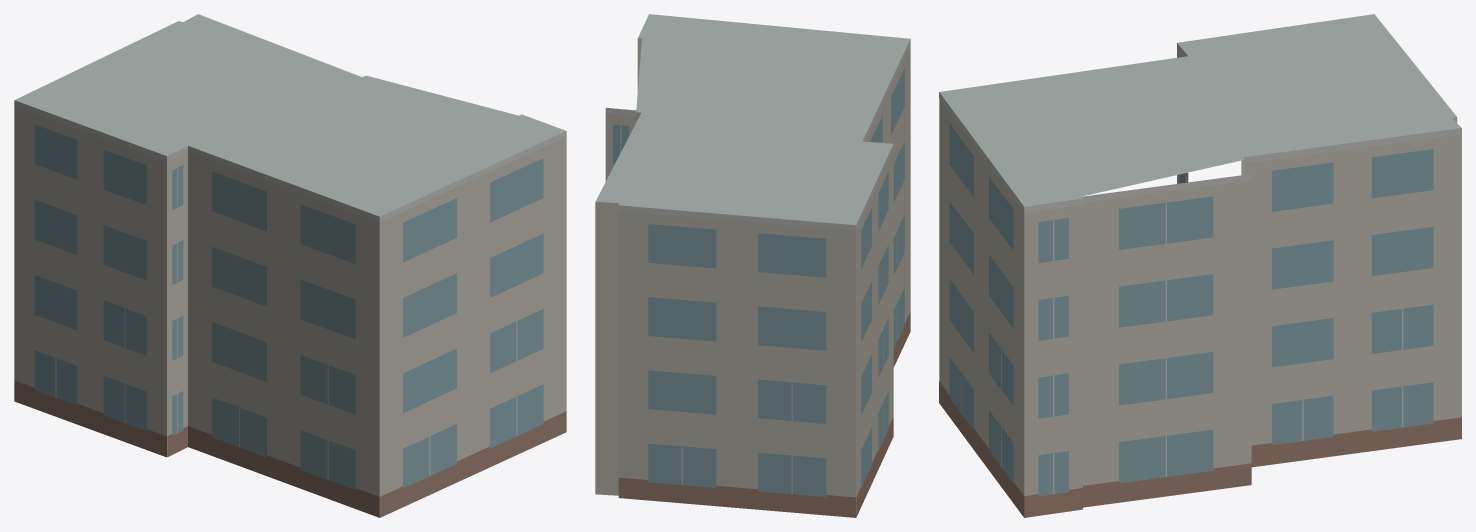
File: survey-upis-32814537.glb
3 views of the same model, side by side, from view 1: azimuth 30°, elevation 25°; view 2: azimuth 150°, elevation 25°; view 3: azimuth 270°, elevation 25° (orthographic). The views are drawn at different scales.
Visible parts, largest first — view 1: survey-upis-32814537.tmp; view 2: survey-upis-32814537.tmp; view 3: survey-upis-32814537.tmp.
Part boxes in pixels (x1=…): survey-upis-32814537.tmp: x1=14, y1=14, x2=566, y2=517; survey-upis-32814537.tmp: x1=595, y1=14, x2=910, y2=517; survey-upis-32814537.tmp: x1=939, y1=14, x2=1461, y2=517.
Bounding box in the file's own units: 16.23 × 12.2 × 18.58.
